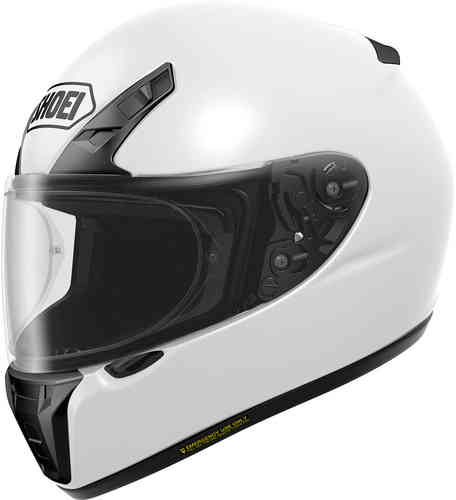with_helmet: (1, 4, 456, 499)
